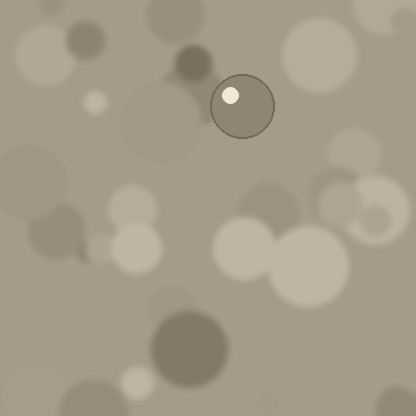gota: (210, 76, 274, 144)
